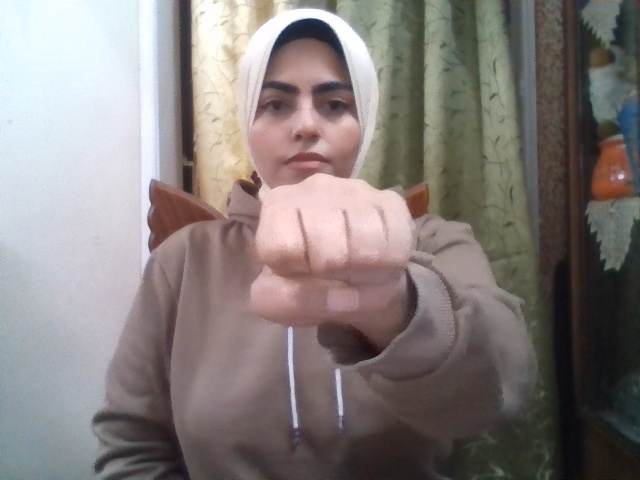yes: (251, 173, 414, 331)
